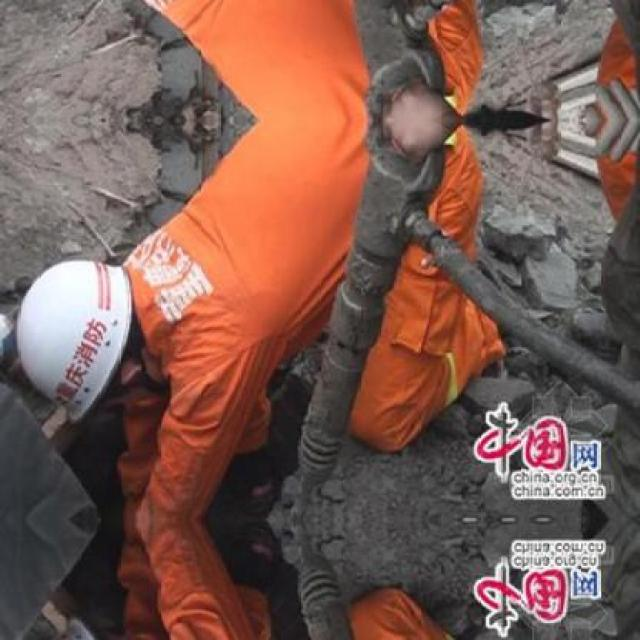helmet: (5, 238, 156, 433)
